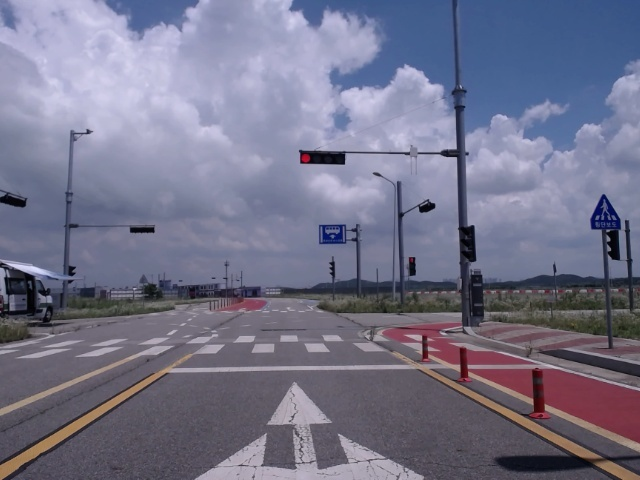red_4: (300, 152, 345, 165)
